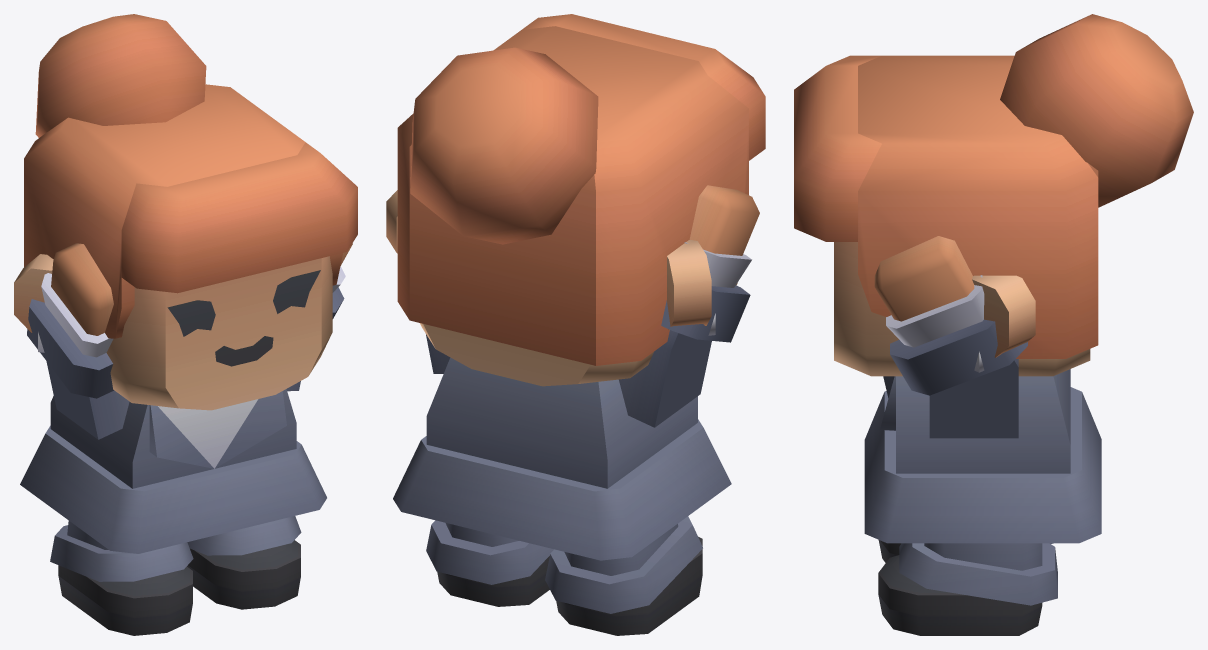
The model's file is people-female-d-idle.glb.
3 views of the same model, side by side, from view 1: azimuth 30°, elevation 25°; view 2: azimuth 150°, elevation 25°; view 3: azimuth 270°, elevation 25° (orthographic). The views are drawn at different scales.
Parts seen in each view (by area): view 1: character-female-d-idle; view 2: character-female-d-idle; view 3: character-female-d-idle.
Part boxes in pixels (box(x1,y1,x2,y2)): character-female-d-idle: box(14, 14, 357, 635); character-female-d-idle: box(386, 14, 765, 635); character-female-d-idle: box(794, 14, 1193, 635).
Bounding box in the file's own units: 0.4535 × 0.7755 × 0.4995.
Materials: 1 (1 with a texture image).
